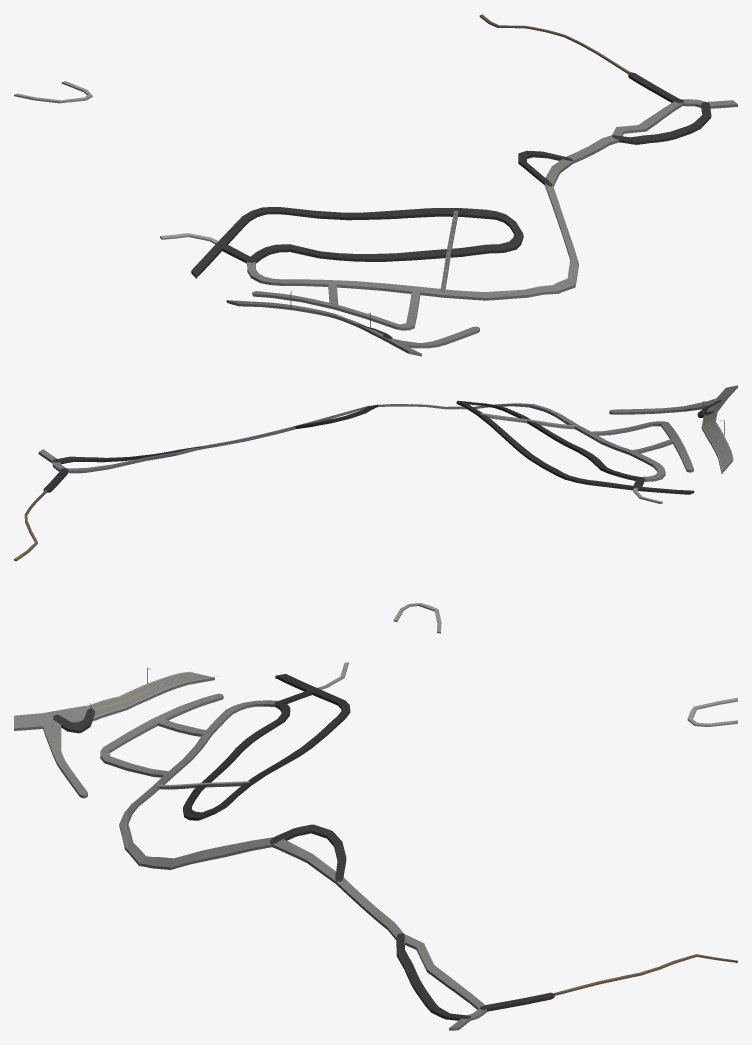
The picture shows the model from 3 angles, top to bottom: view 1: azimuth 30°, elevation 25°; view 2: azimuth 150°, elevation 25°; view 3: azimuth 270°, elevation 25°; orthographic projection. The views are drawn at different scales.
Size of the model in its own units: 295 by 33.16 by 292.
